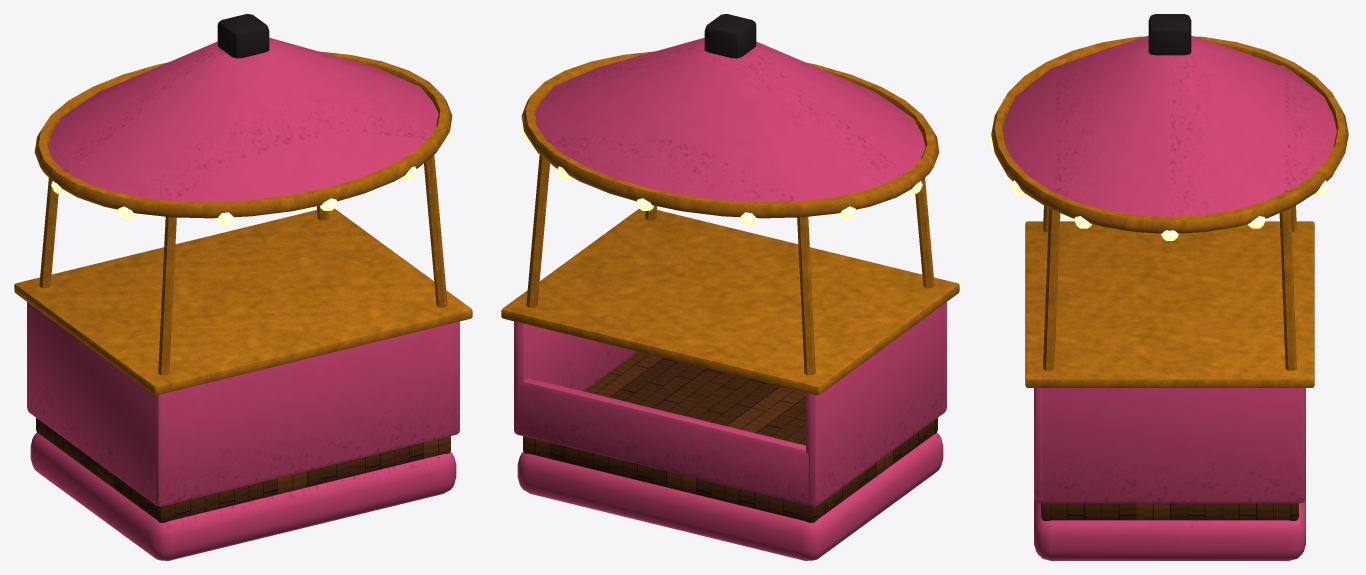
The model's file is gondola-pink.glb.
3 views of the same model, side by side, from view 1: azimuth 30°, elevation 25°; view 2: azimuth 150°, elevation 25°; view 3: azimuth 270°, elevation 25° (orthographic).
Parts seen in each view (by area): view 1: gondola-pink; view 2: gondola-pink; view 3: gondola-pink.
Boxes of the visible parts, x1=… form: gondola-pink: x1=14, y1=14, x2=472, y2=560; gondola-pink: x1=501, y1=14, x2=959, y2=560; gondola-pink: x1=988, y1=14, x2=1351, y2=560.
Size of the model in its own units: 3.12 by 3.62 by 2.54.
Materials: 7 (4 with a texture image).
